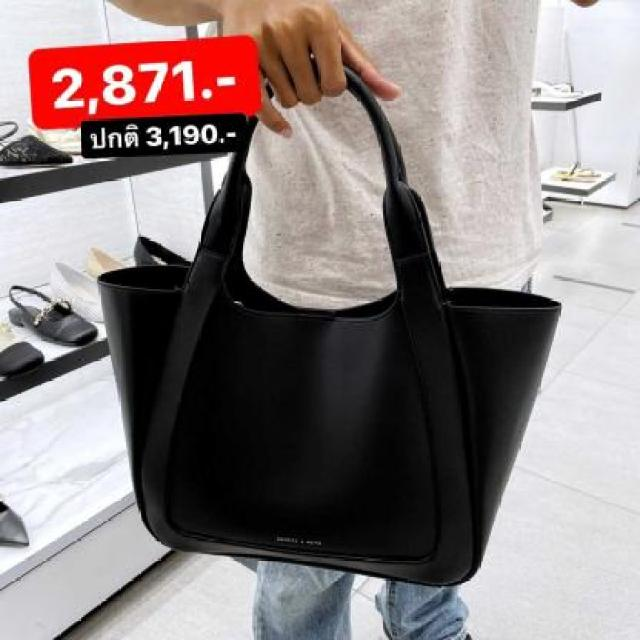Bag: (86, 60, 557, 597)
